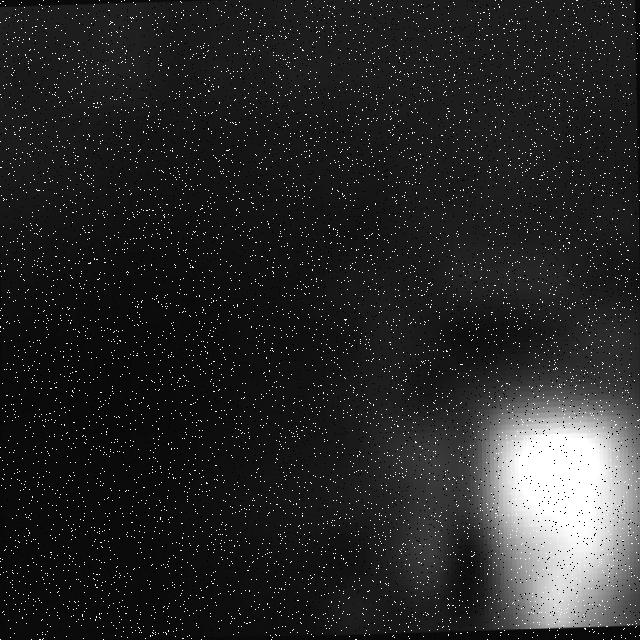person: (411, 389, 640, 634)
